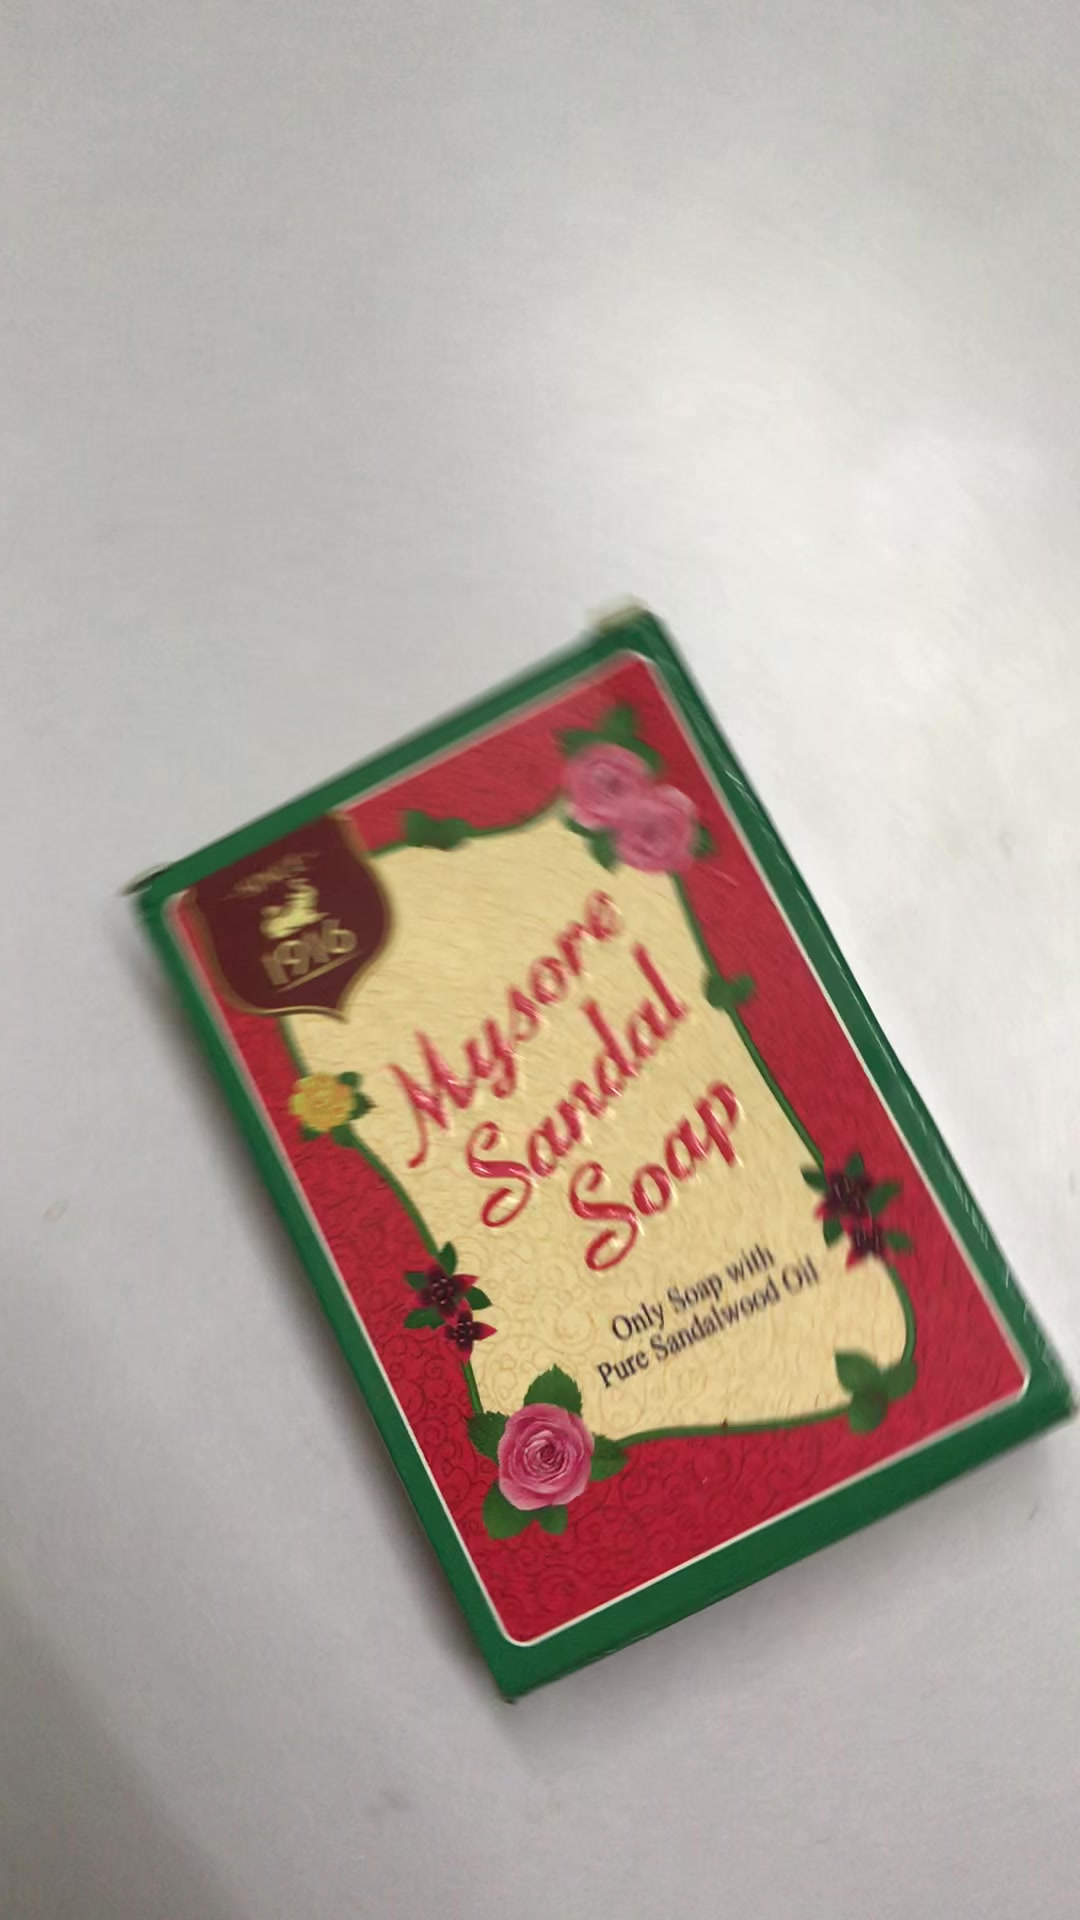mysore sandal soap: (135, 632, 1080, 1698)
